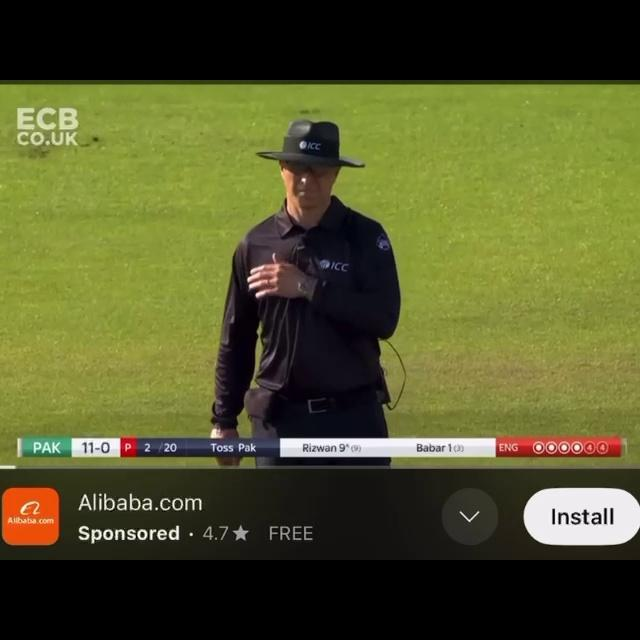umpire: (199, 114, 472, 437)
